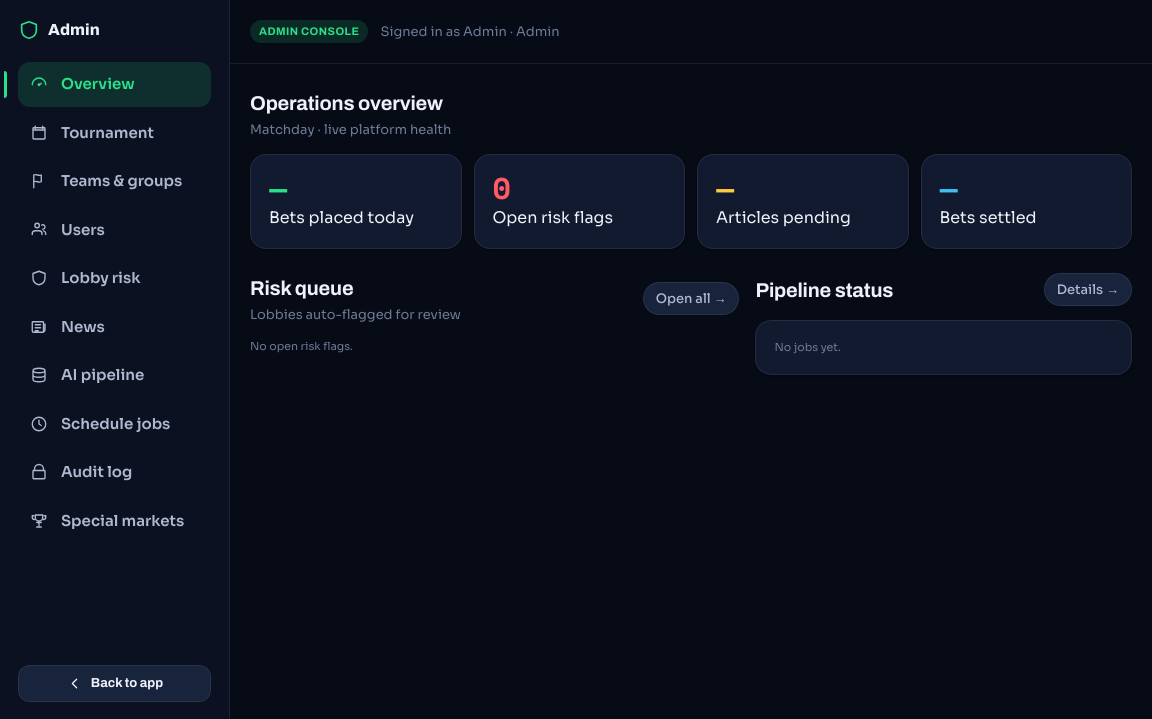
Test: Admin › match detail shows the data-sync panel
Click the button "Tournament".
click(114, 133)  # box [18, 110, 211, 155]
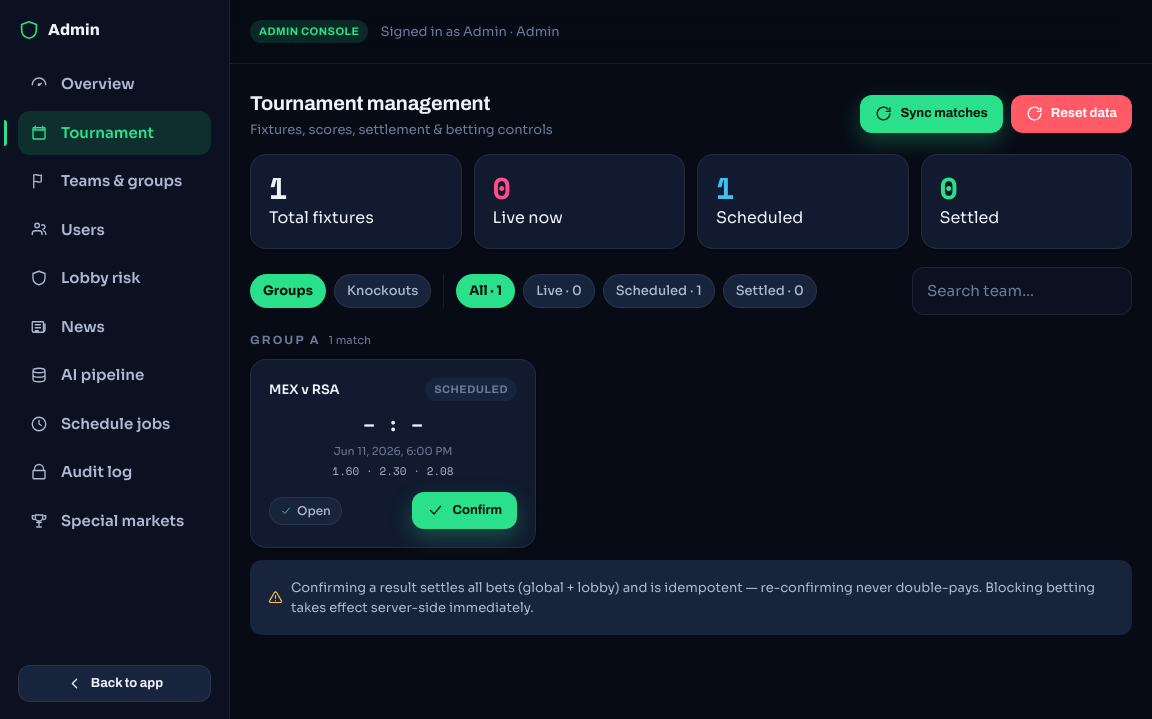
Click the text "MEX v RSA".
click(304, 390)  # box [269, 380, 340, 399]
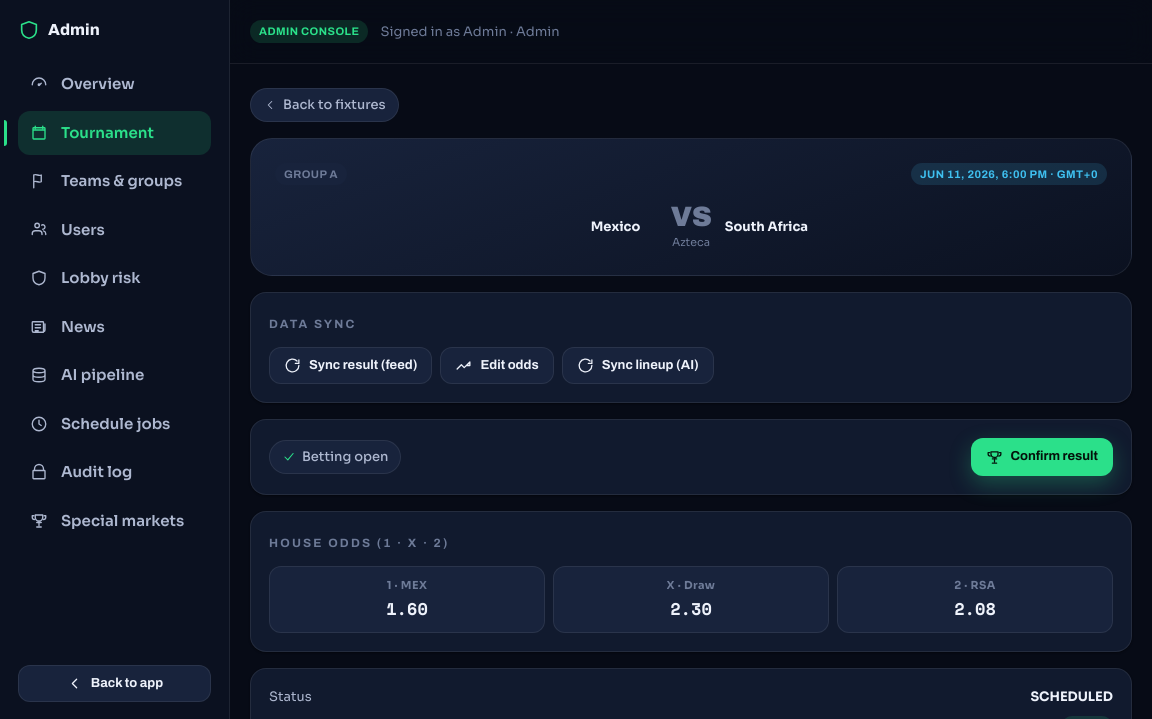
Expected: the text "Data sync" is shown, [269, 317, 356, 331]
Expected: the button "Sync result (feed)" is shown, [269, 347, 432, 384]
Expected: the button "Sync lineup (AI)" is shown, [562, 347, 714, 384]
